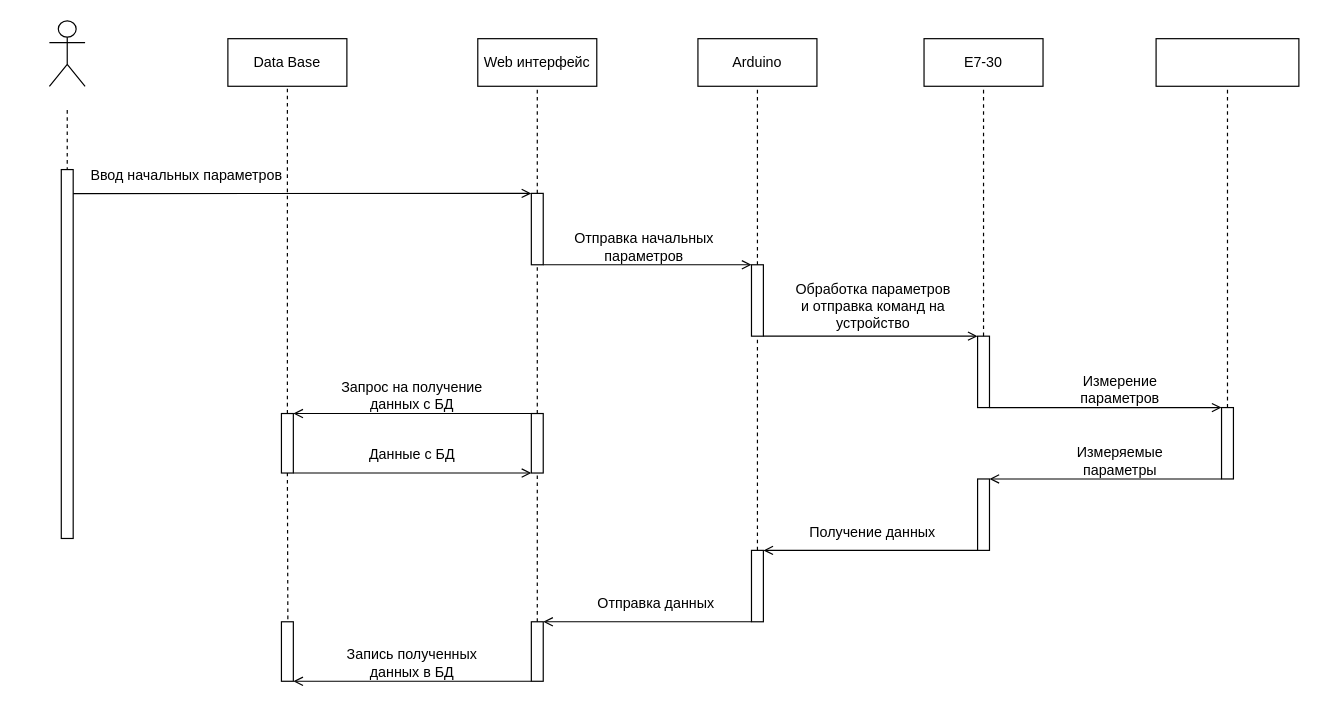
Some shapes in this 1320 by 712 pixel diagram are drawn without their labels. The shapes that lost their labels are listed below. From the top down, each one's centre as x and y in pixels, then its label:
point 66,53: Пользователь
point 1227,61: Пьезокерамическая пластина
